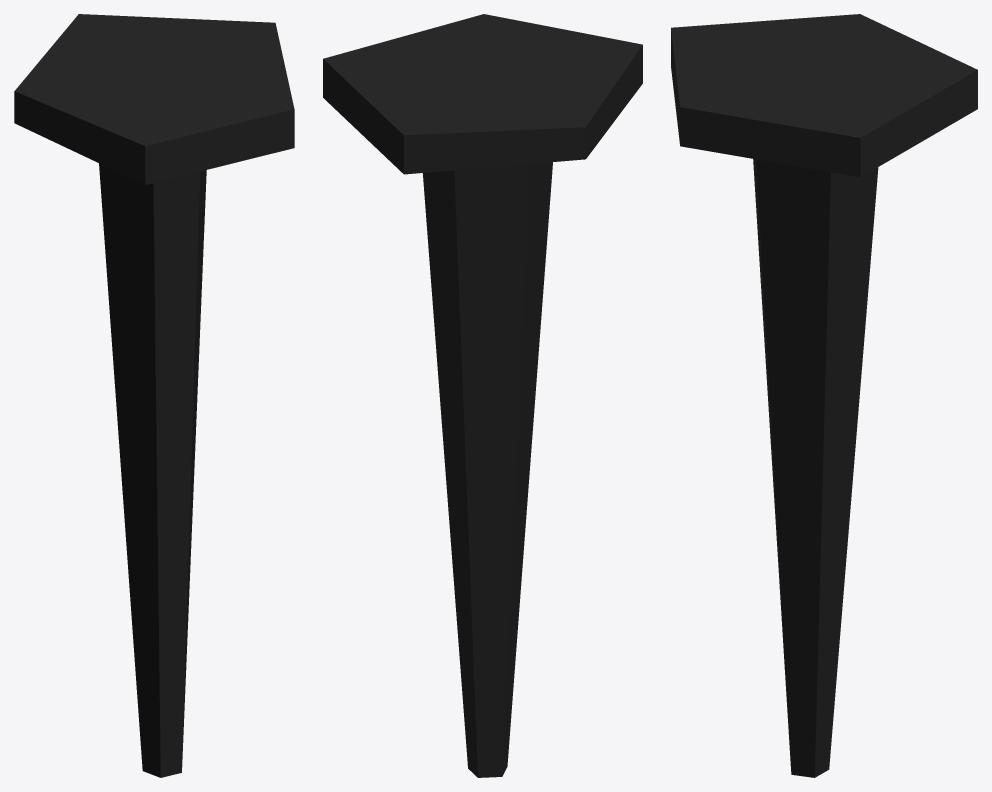
Rendered from nail02.gltf.
3 views of the same model, side by side, from view 1: azimuth 30°, elevation 25°; view 2: azimuth 150°, elevation 25°; view 3: azimuth 270°, elevation 25° (orthographic).
Parts seen in each view (by area): view 1: Cube; view 2: Cube; view 3: Cube.
Part boxes in pixels (left/top/right/bottom): Cube: left=14, top=14, right=294, bottom=777; Cube: left=323, top=14, right=642, bottom=777; Cube: left=671, top=14, right=977, bottom=777.
Bounding box in the file's own units: 0.0243 × 0.0615 × 0.0245.
1 material, 1 textured.
